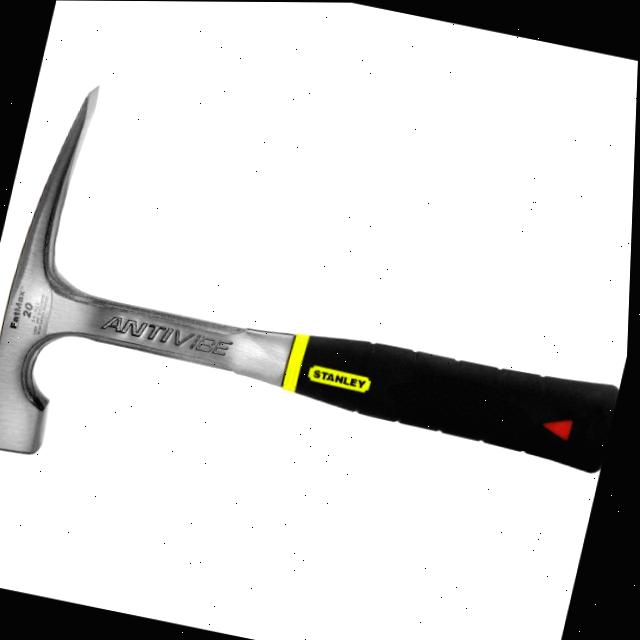hammer: (0, 65, 638, 578)
